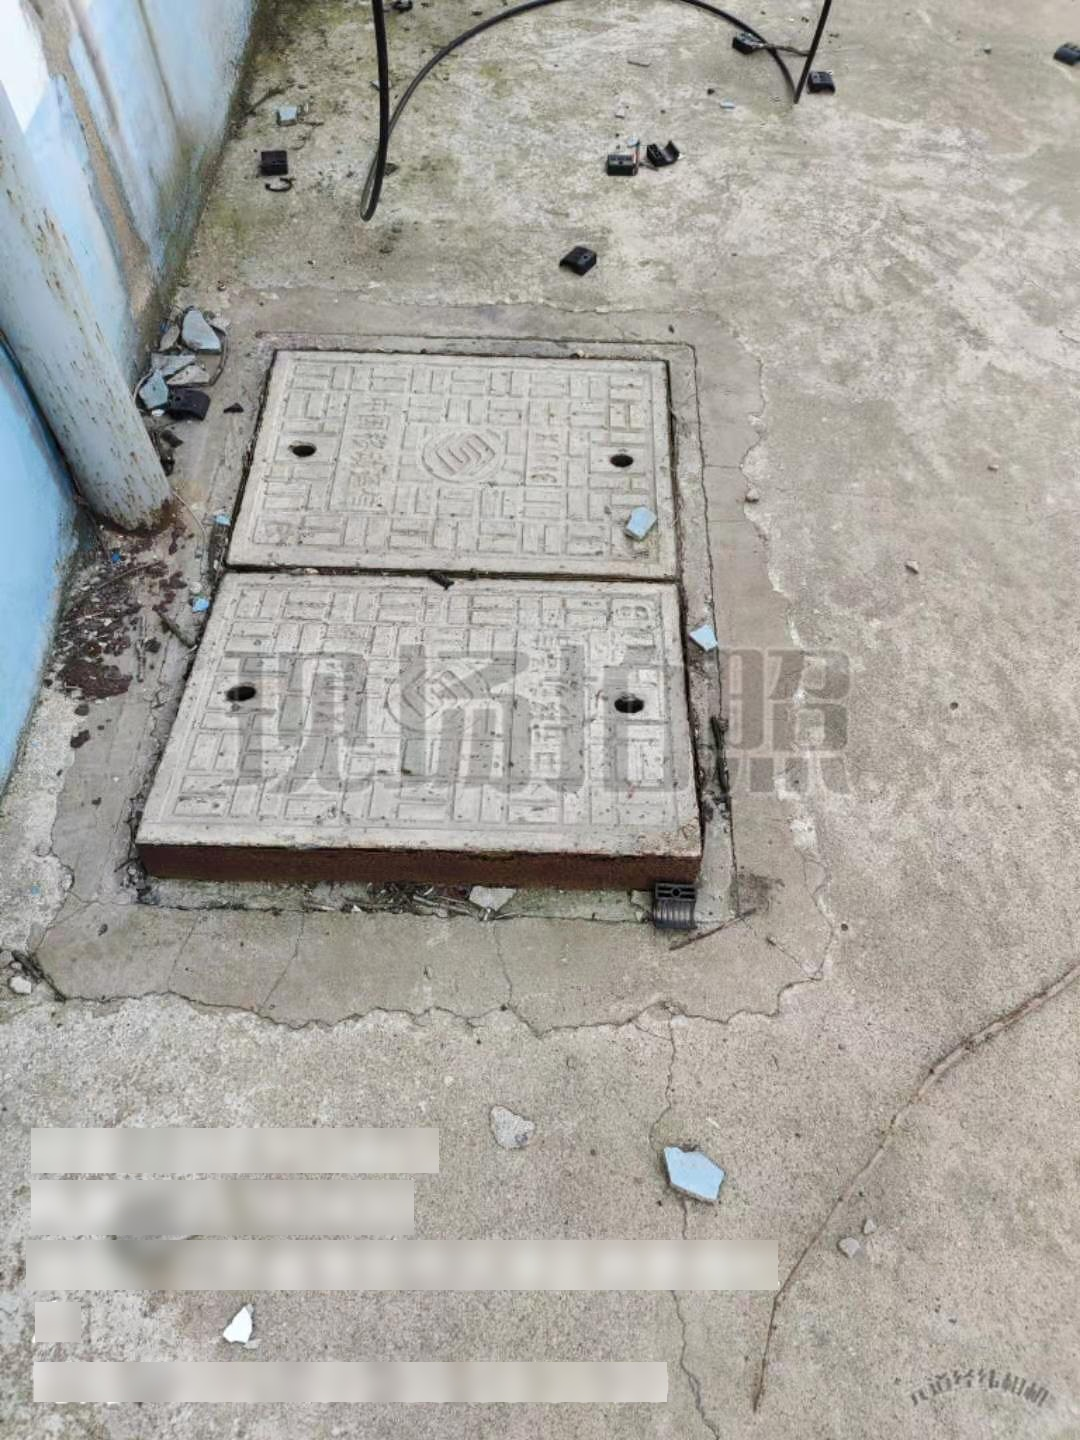uncovered: (106, 328, 739, 924)
